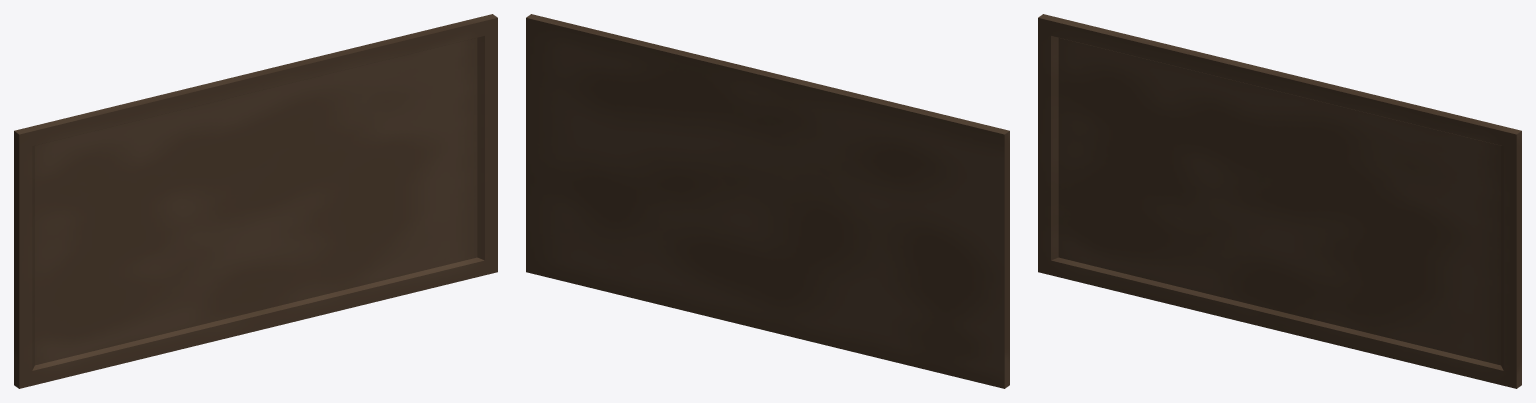
File: Prikboard_v2.fbx
3 renders of one model, left to right at view 1: azimuth 30°, elevation 25°; view 2: azimuth 150°, elevation 25°; view 3: azimuth 330°, elevation 25°, orthographic.
Parts seen in each view (by area): view 1: Board1; view 2: Board1; view 3: Board1.
Part boxes in pixels (box(x1,y1,x2,y2)): Board1: box(14, 14, 497, 388); Board1: box(526, 14, 1009, 388); Board1: box(1038, 14, 1521, 388).
Bounding box in the file's own units: 11.88 × 6.03 × 0.2225.
